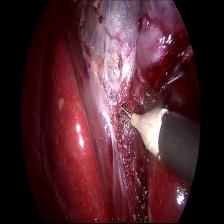Hook: (120, 100, 172, 160)
